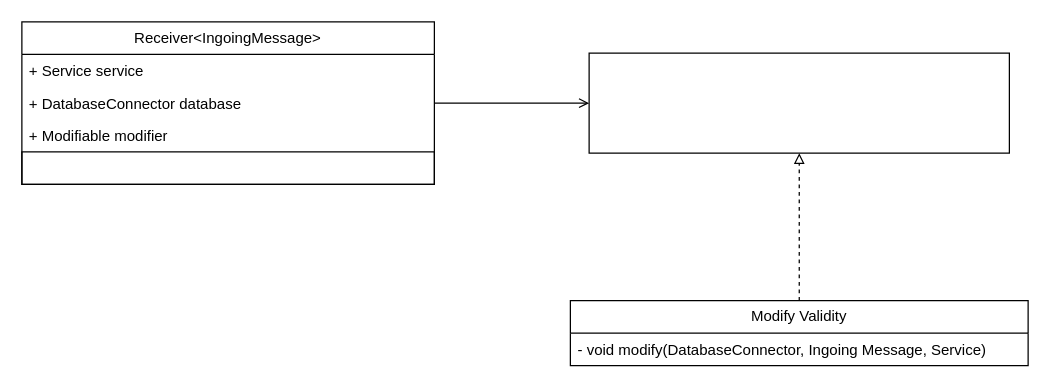
Image size: 1050x391. Some labels were removed from this diagram. Here are the shapes that lost their labels. From the top down, the box of each, then its label:
(588, 52, 1009, 153): «interface» Modifiable - void modify(DatabaseConnector, IngoingMessage, Service)
(21, 151, 434, 184): - void onMesageReceived(route, replyTo, corrId, message)
